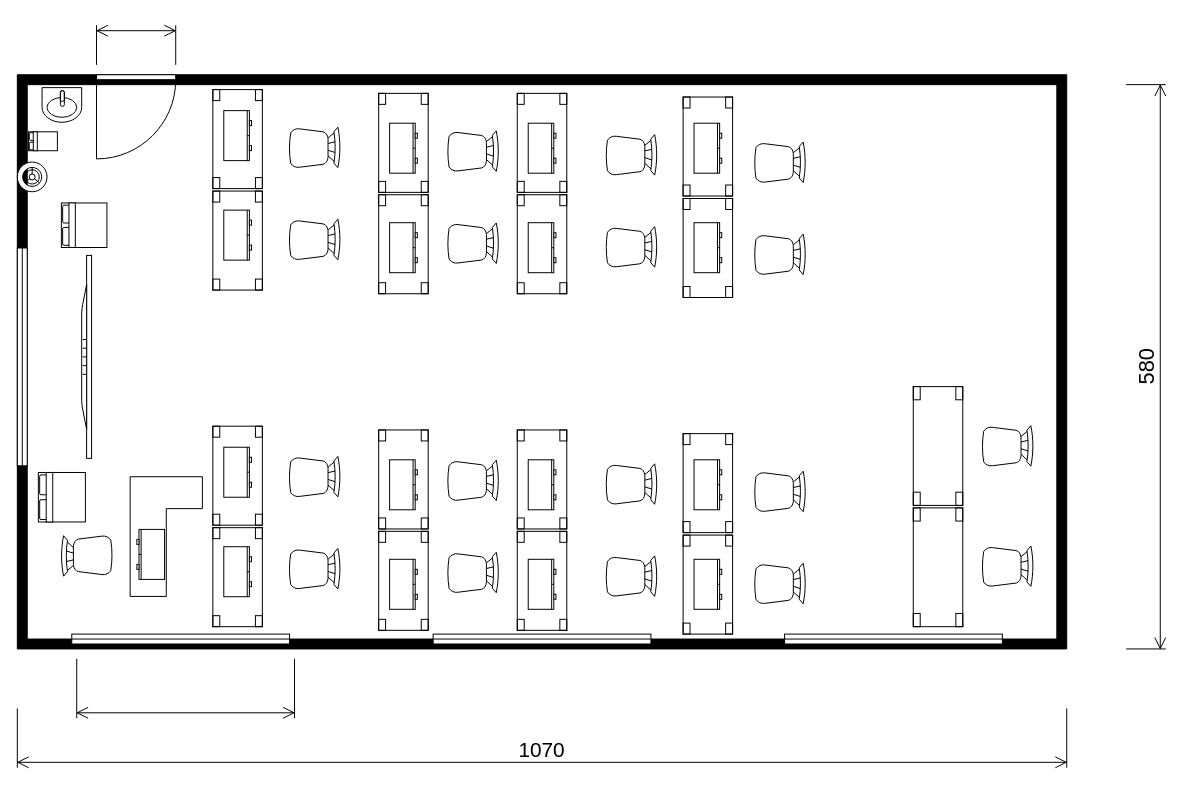
Some shapes in this 1183 by 785 pixel diagram are drawn without their labels. Here are the shapes that lost their labels. From the top down, the centre of each, then its label:
At pixel 136 44: "Dveře 80".
At pixel 185 688: "Okno 220".
